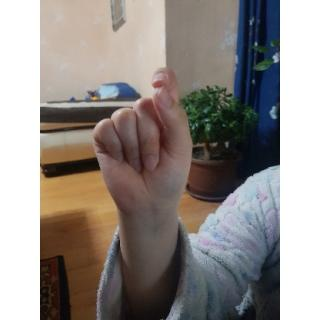FAA: (91, 62, 194, 242)
